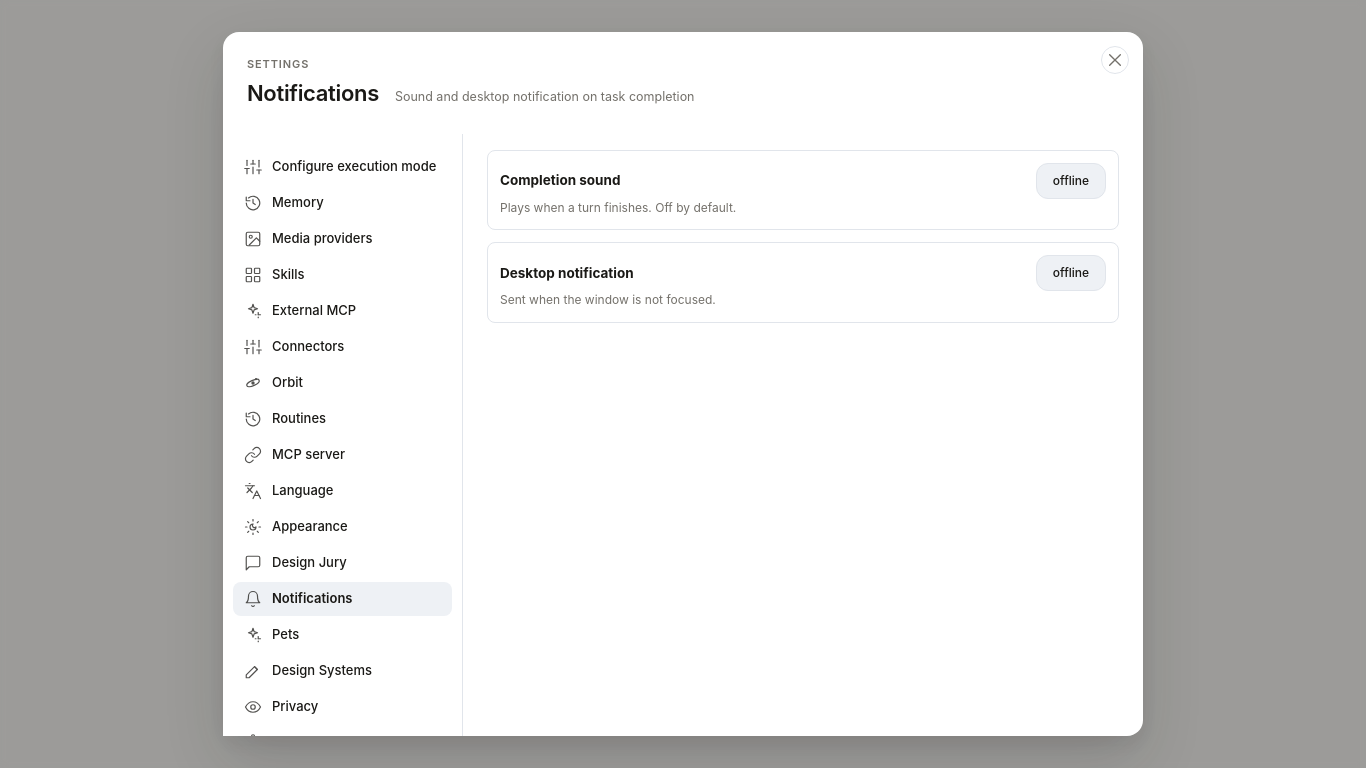
Test: SettingsDialog notifications interactions › shows a blocked hint and keeps desktop notifications disabled when permission is denied
The width and height of the screenshot is (1366, 768).
Click the 2nd button "offline" at (1071, 273), box [1040,259,1102,287]
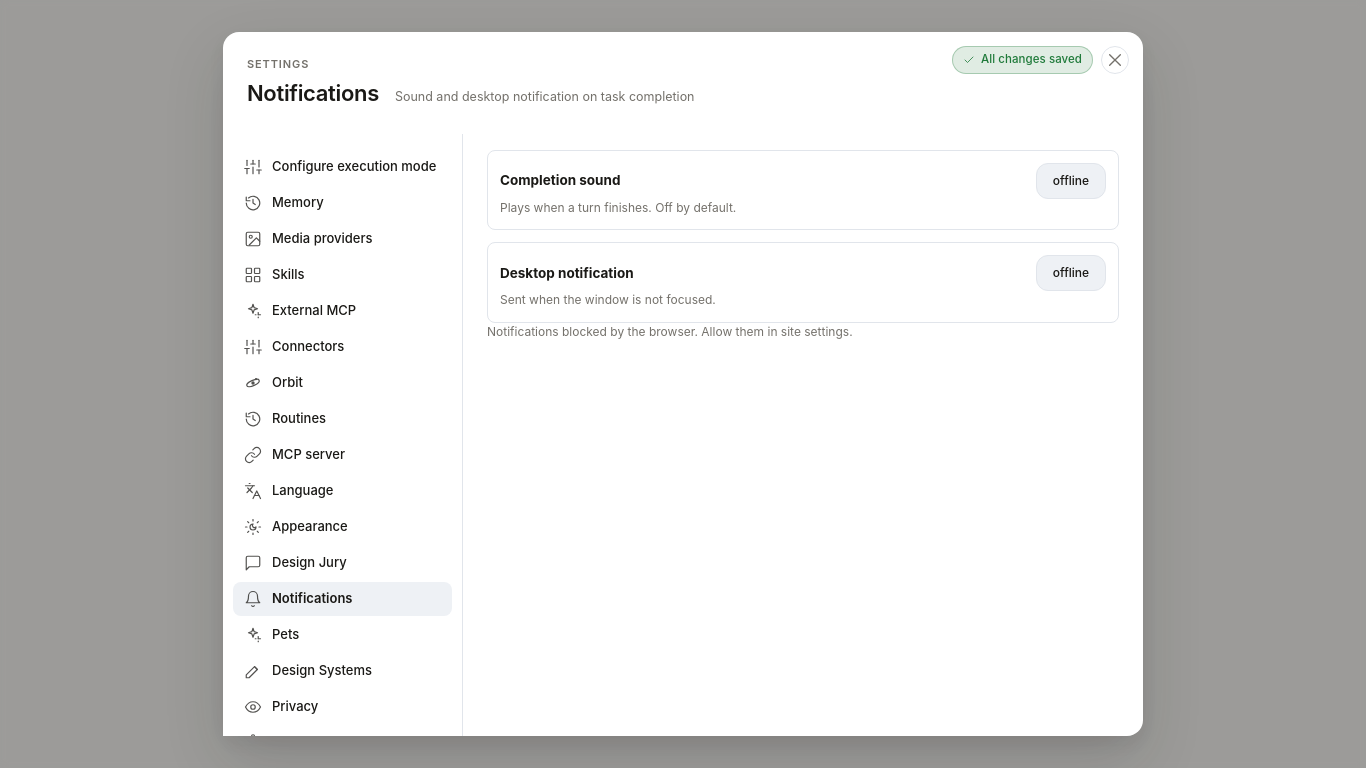
Now the text "Notifications blocked by the browser" is shown, box [487,324,853,339]
